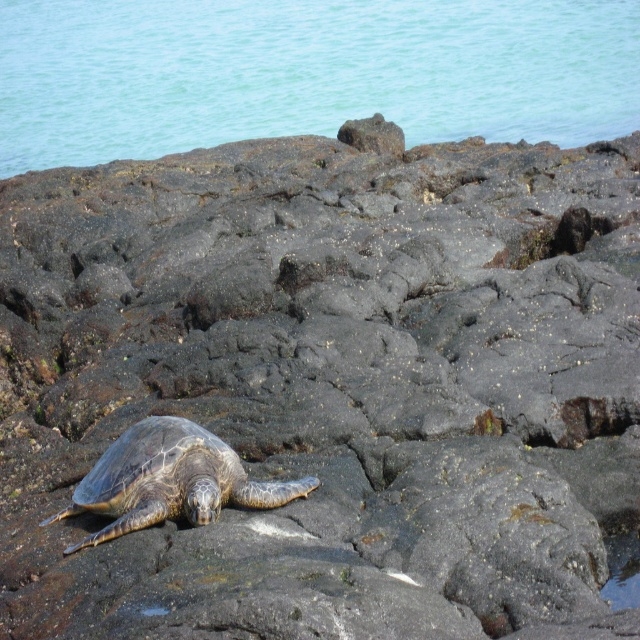Sea turtle: (35, 417, 320, 558)
